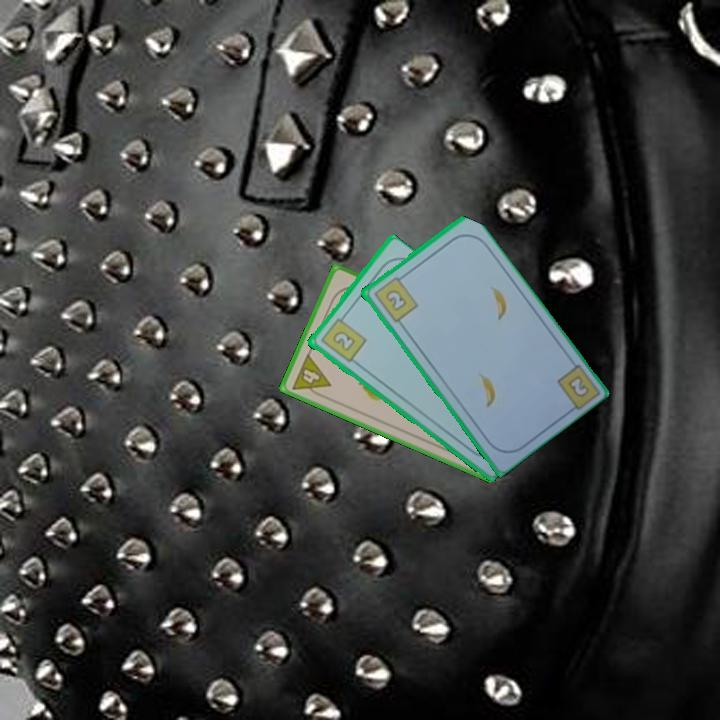2b: (316, 311, 369, 365), (370, 271, 421, 325), (564, 372, 592, 400)
4p: (288, 350, 334, 402)
